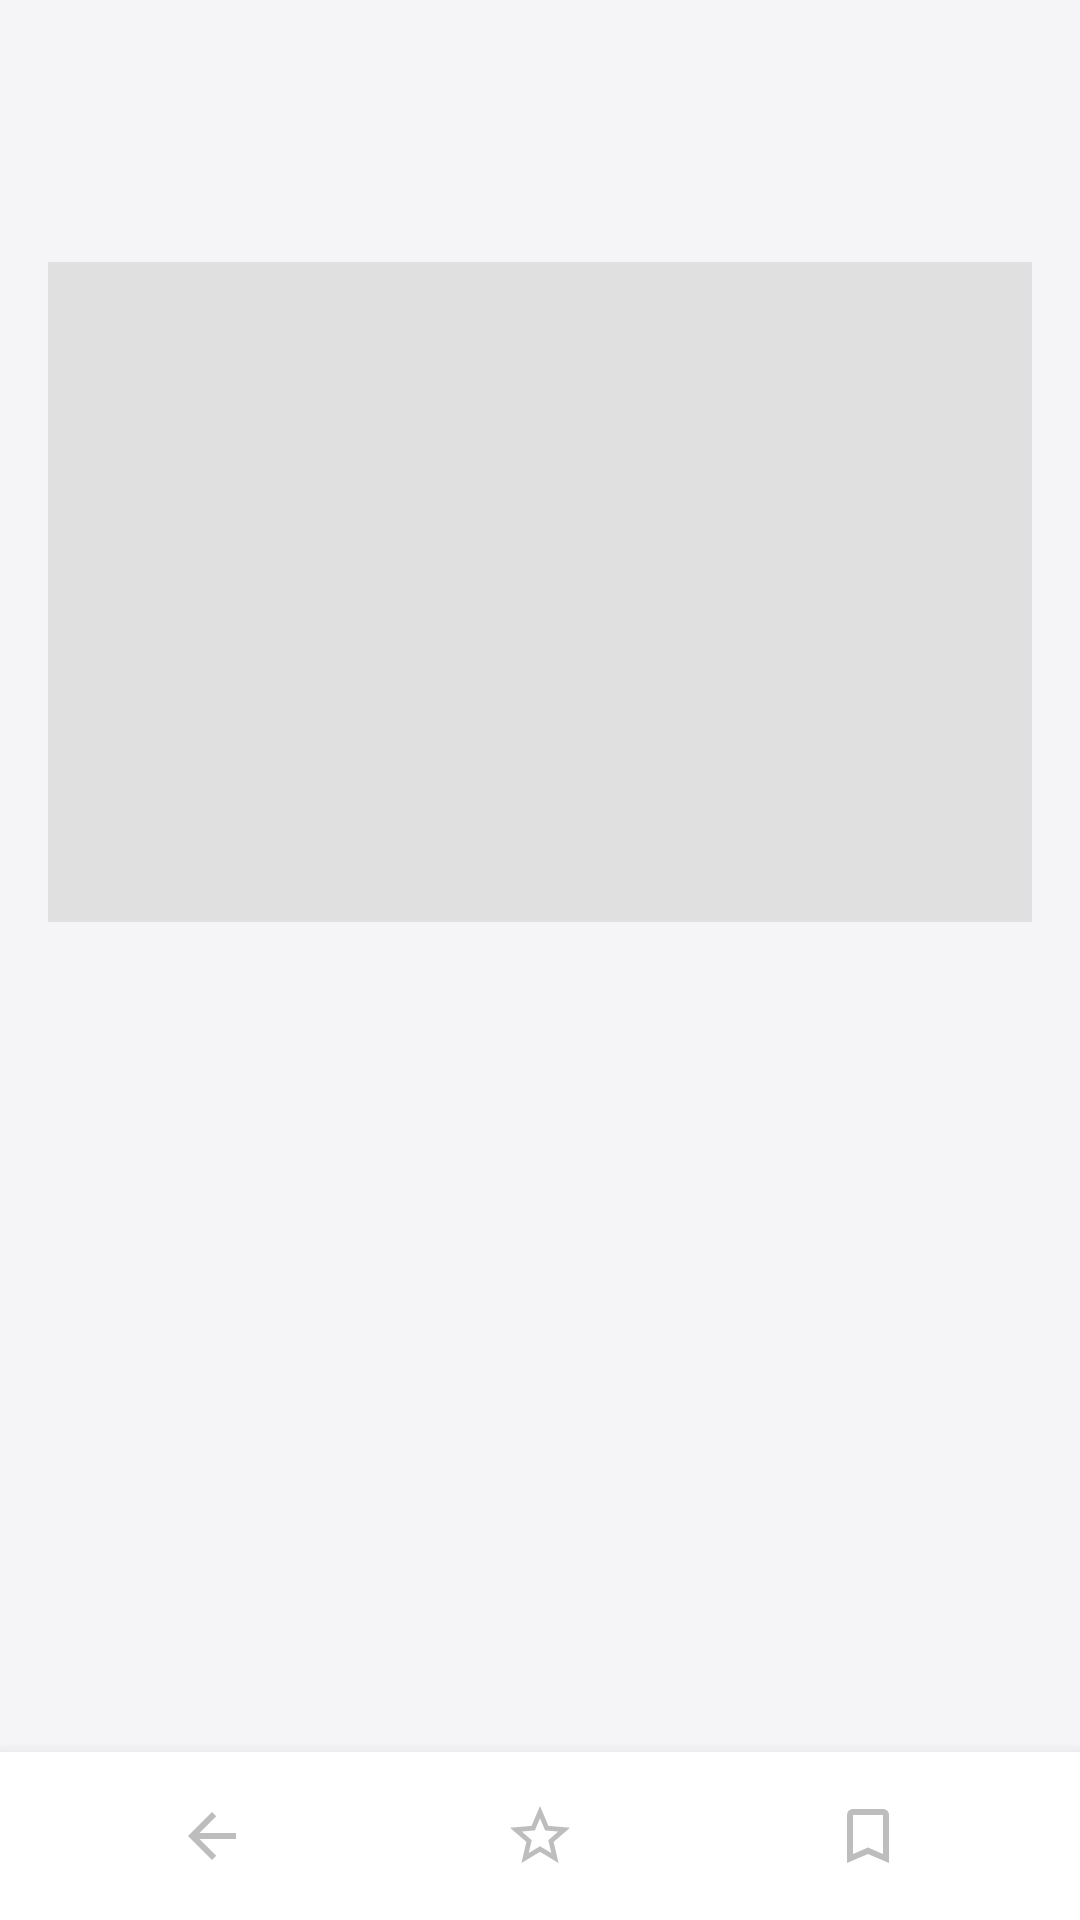

Screen size 1080×1920. Icon name, then its box in pixels as [left=x1, top=y1, right=x2, bottom=y2]:
arrow back: [left=188, top=1812, right=236, bottom=1860]
star border: [left=511, top=1807, right=569, bottom=1863]
